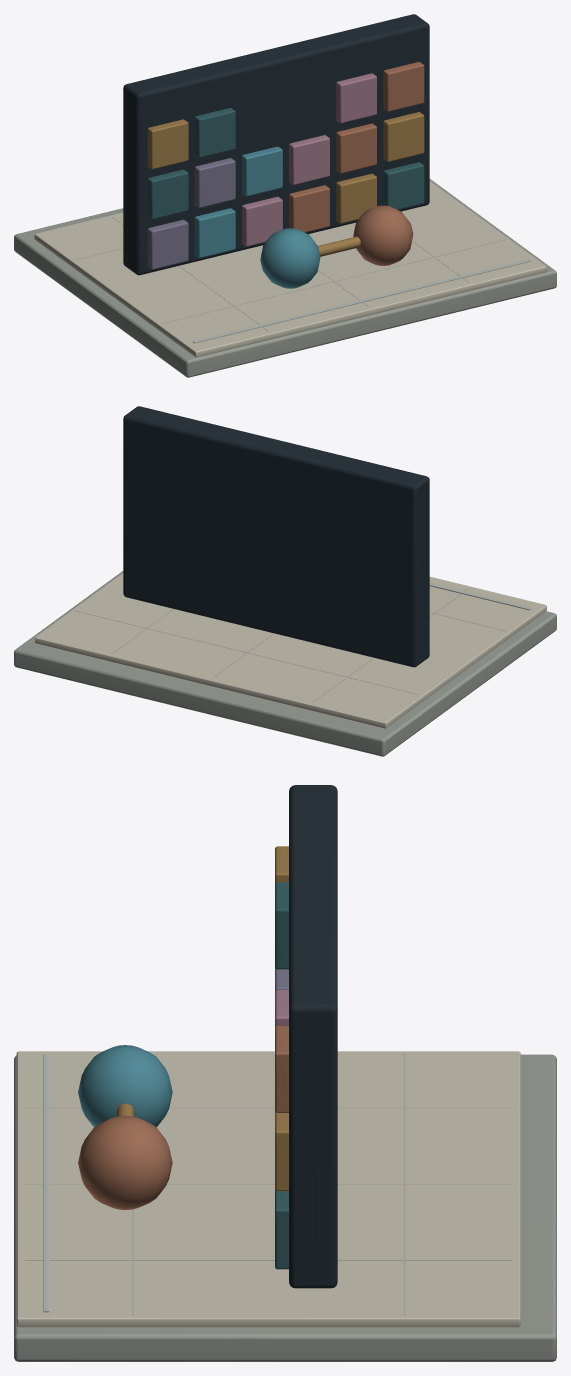
The model's file is idea-42501ee3.glb.
3 renders of one model, top to bottom at view 1: azimuth 30°, elevation 25°; view 2: azimuth 150°, elevation 25°; view 3: azimuth 270°, elevation 25°, orthographic. The views are drawn at different scales.
Visible parts, largest first — view 1: Personality Periodic Table; view 2: Personality Periodic Table; view 3: Personality Periodic Table.
Boxes of the visible parts, left/top/right/bottom form: Personality Periodic Table: left=14, top=14, right=556, bottom=377; Personality Periodic Table: left=14, top=406, right=556, bottom=756; Personality Periodic Table: left=14, top=785, right=556, bottom=1361.
Bounding box in the file's own units: 4.8 × 2.6 × 3.9.
